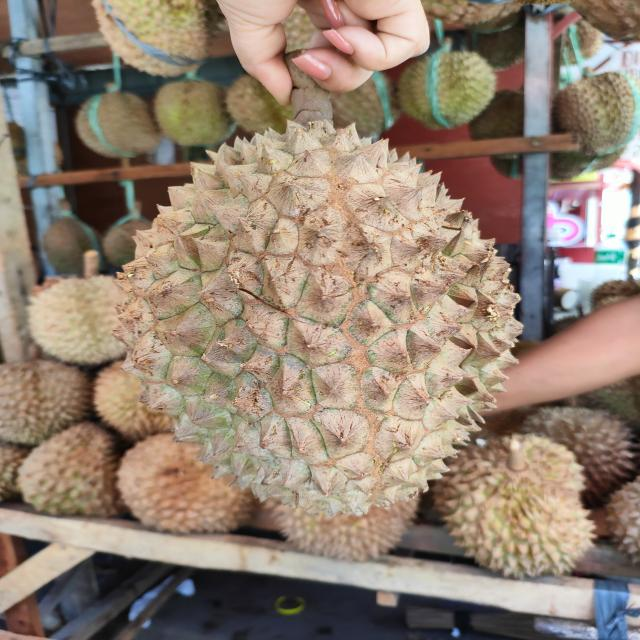mature: (113, 121, 524, 518)
